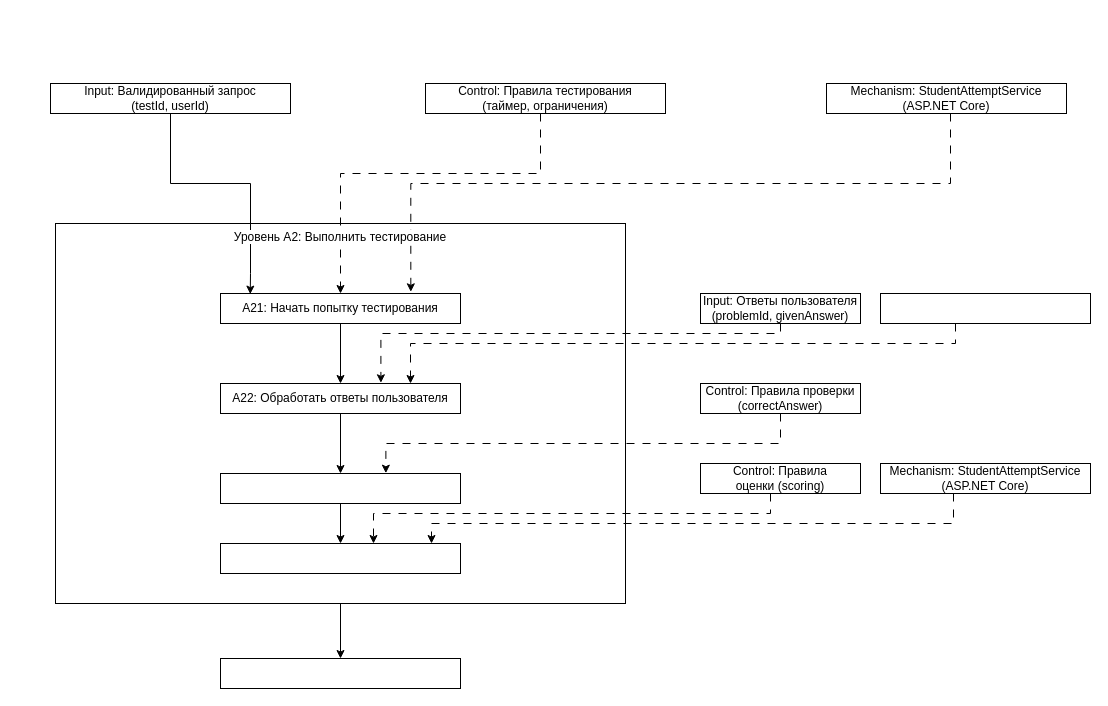
This 1108x706 diagram has some shape labels left out. The box of each missing label's shape, as (x1, y1, x2, y2) in pixels:
A23: Проверить правильность ответов: (220, 472, 460, 504)
A24: Завершить попытку и сохранить результаты: (220, 542, 460, 574)
Mechanism: TestAttemptService (ASP.NET Core): (880, 292, 1090, 324)
Результаты попытки (rawScore, scaledScore, answers): (220, 658, 460, 688)
